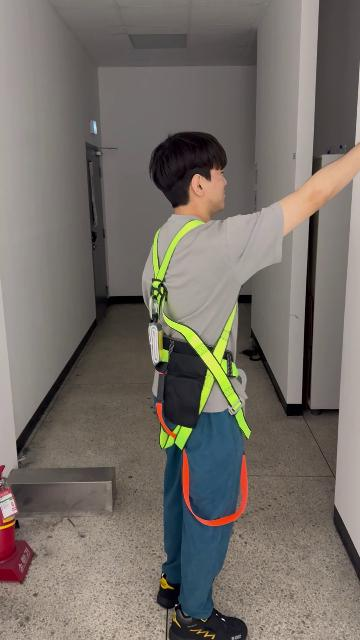helmet_not_worn: (146, 130, 227, 204)
shoe_worn: (170, 603, 246, 640), (156, 572, 180, 608)
vest_worn: (145, 224, 253, 518)
